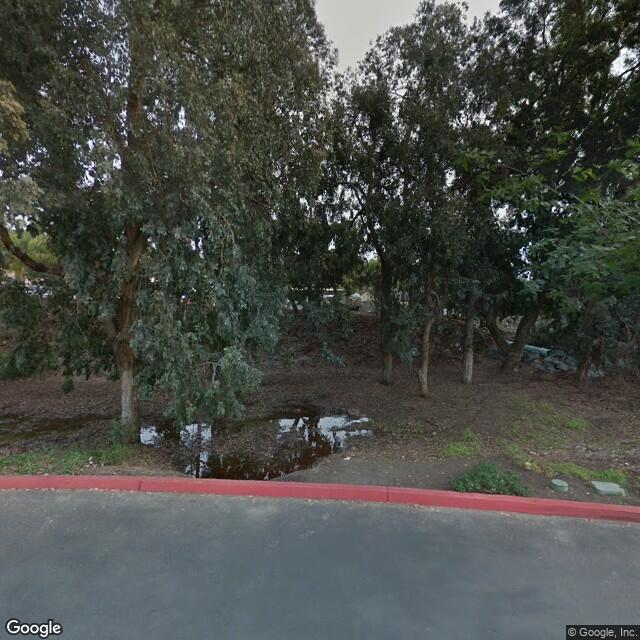litter: (85, 455, 94, 470), (44, 469, 51, 477), (586, 491, 592, 495)
